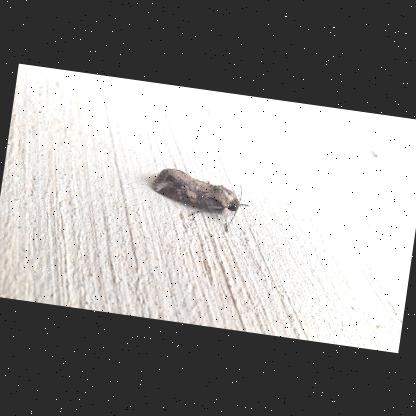Fall Armyworm Moth: (145, 165, 253, 238)
